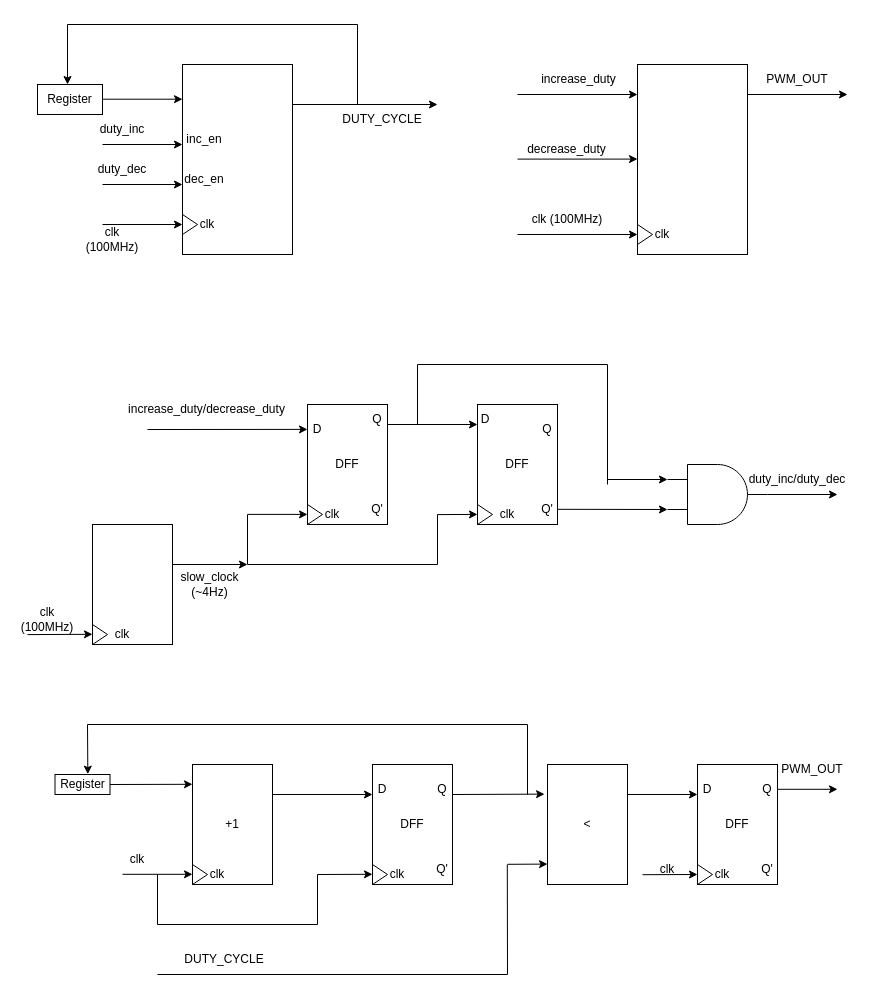
Image size: 873x993. Some labels were removed from this diagram. Here are the shapes that lost their labels. From the top down, the box of each, then its label:
(182, 64, 292, 254): Counter
(636, 64, 748, 254): PWM Generator
(666, 464, 768, 524): AND
(92, 524, 172, 644): clock_divider
